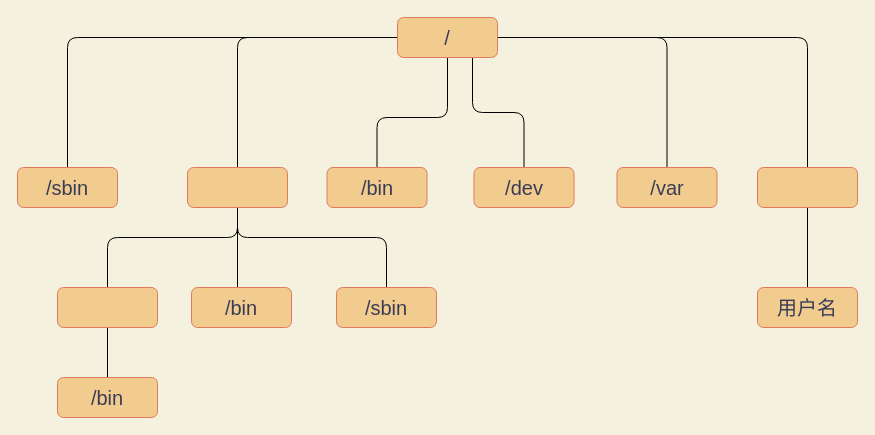
The diagram is 875 pixels wide and 435 high, and some of its shapes have lost their labels. Each missing label, with the centre of its shape:
"/local" belongs at (x=107, y=307).
"/Users" belongs at (x=807, y=187).
"/usr" belongs at (x=237, y=187).
